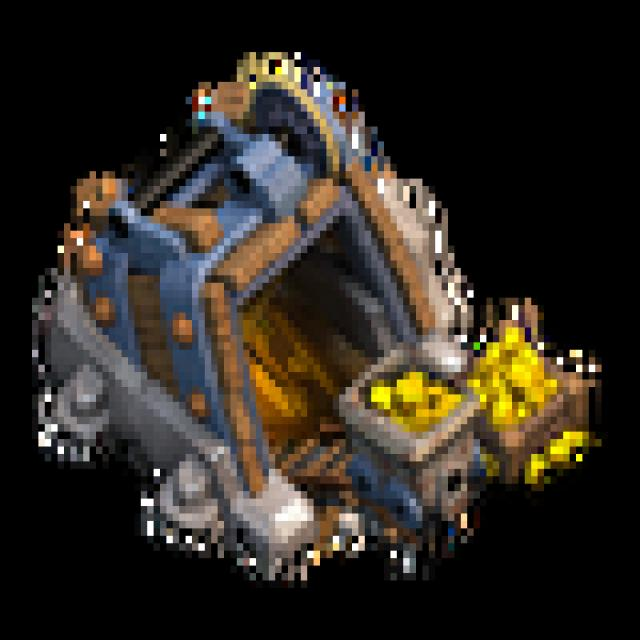gold_mine: (18, 56, 614, 590)
